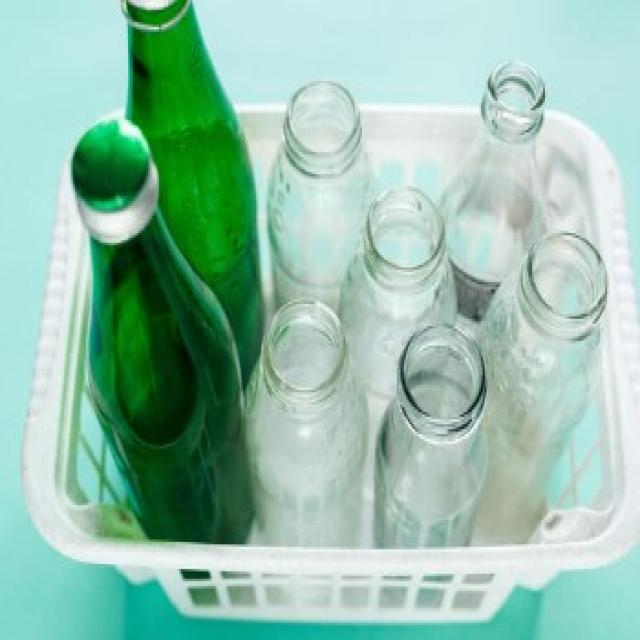electronic: (73, 0, 272, 543)
